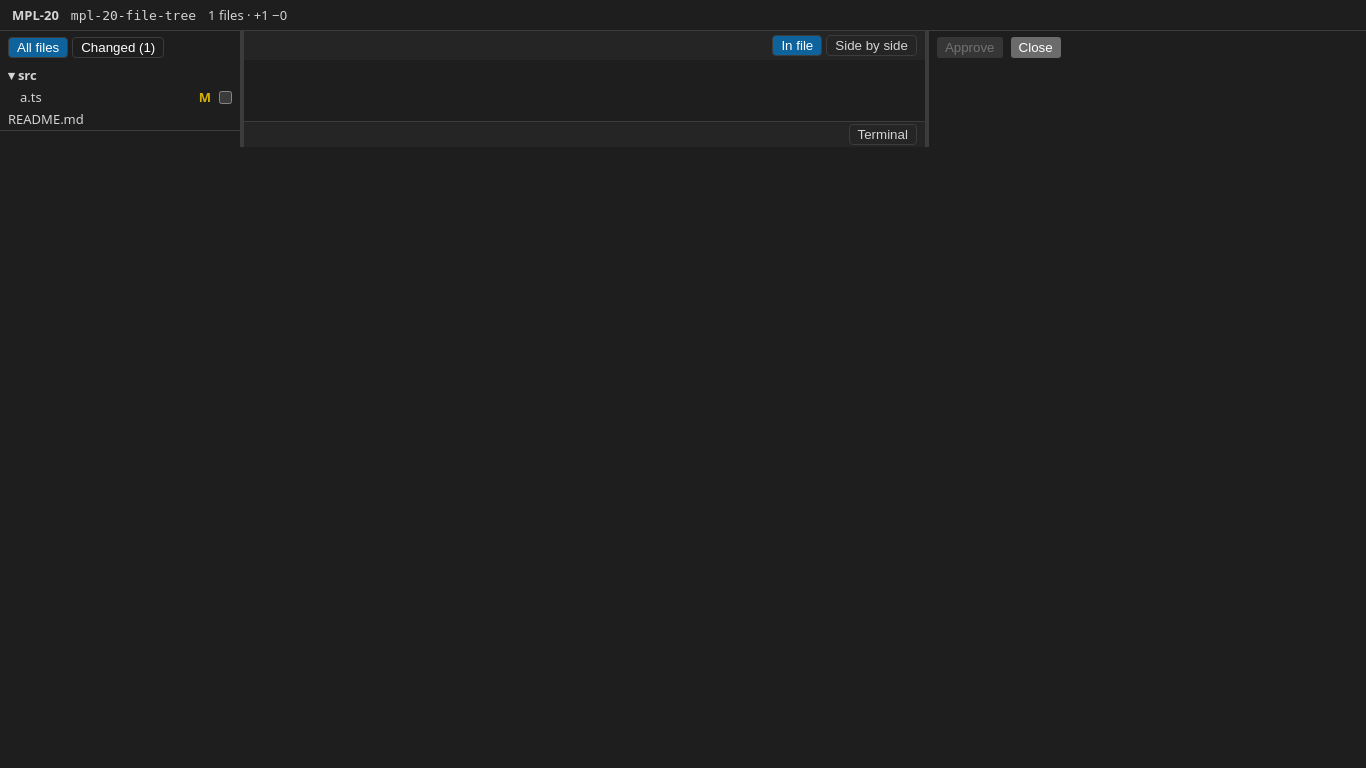
Scenario: CardTab › Ctrl+P opens quick open and the chosen file opens in the viewer
Expected: the text "README.md" is shown, [8,110,84,128]
Type keys "{Control>}p{/Control}"
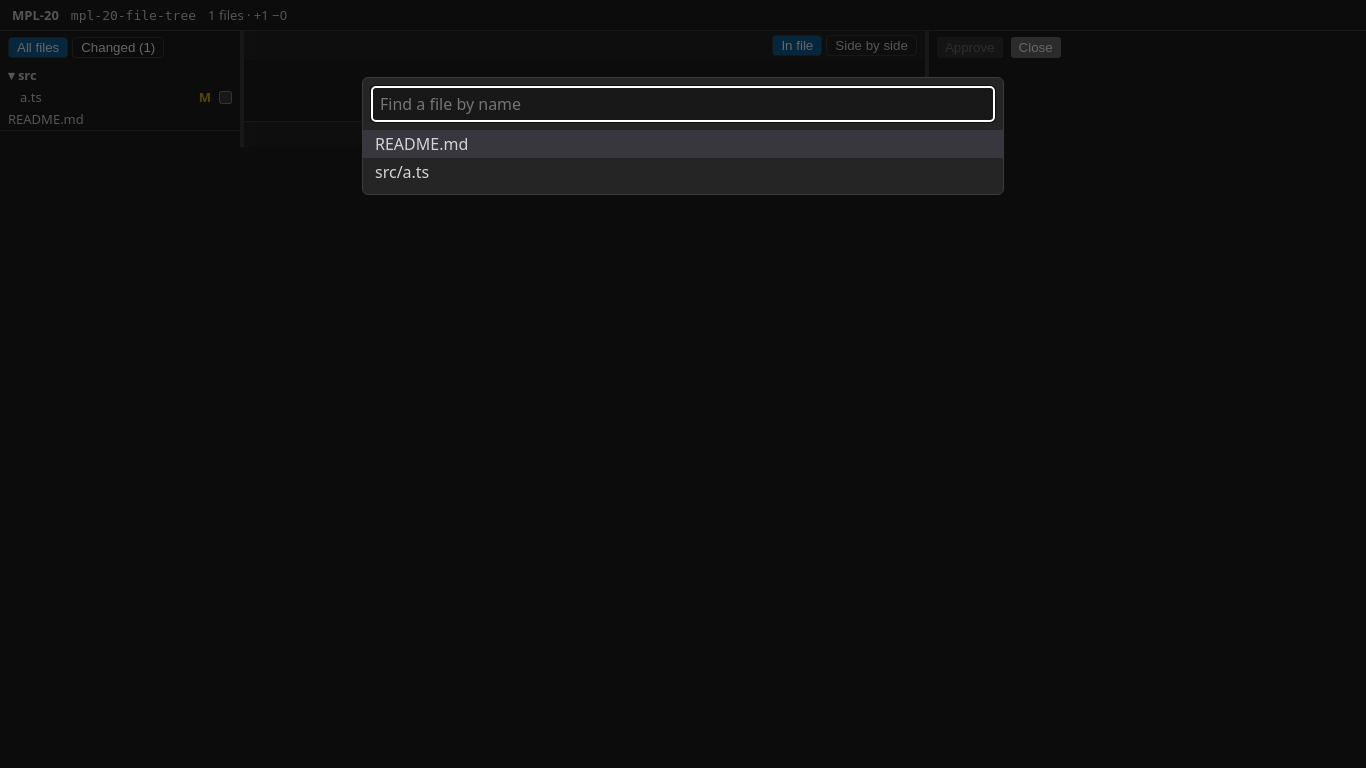
Type "a.ts" into the field at (683, 104), box [371,86,995,122]
Then press Enter
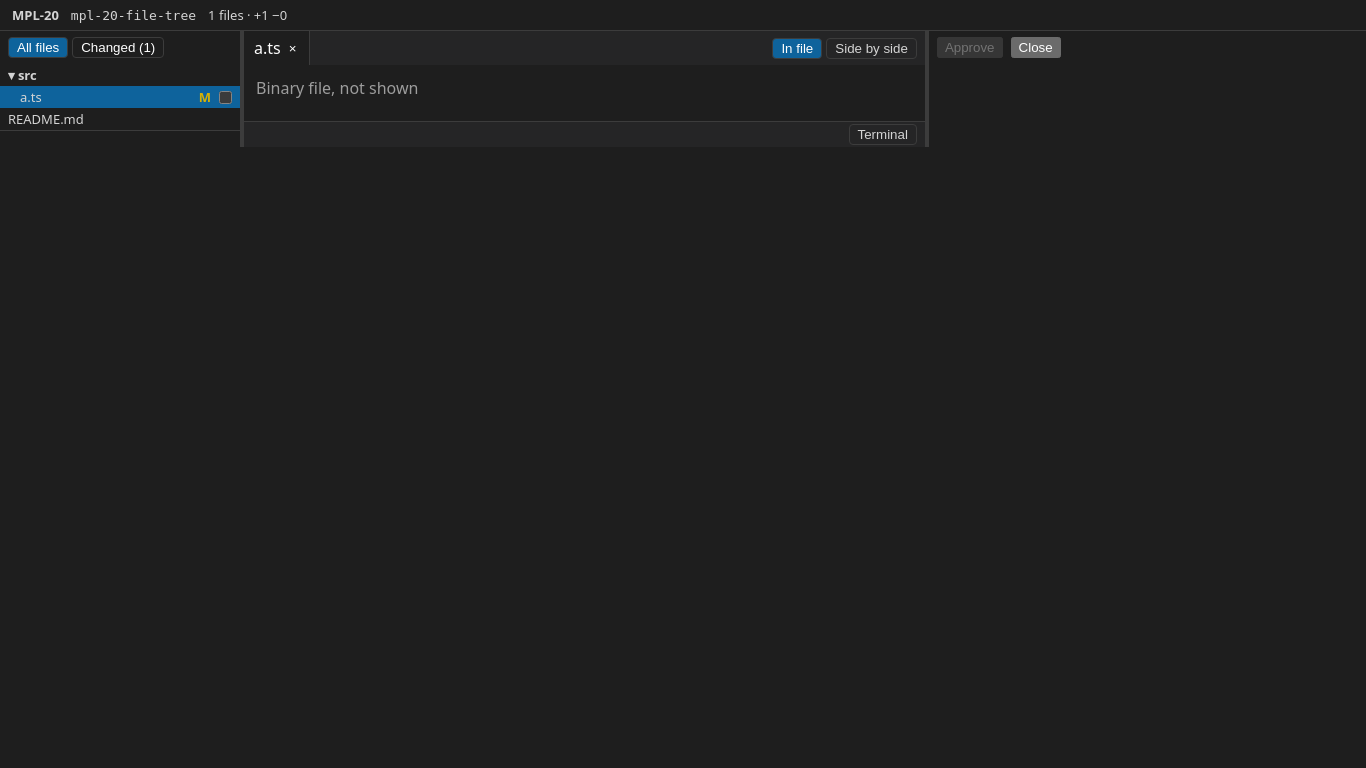
Now the tab "a.ts ×" is shown, box [244,31,310,65]
